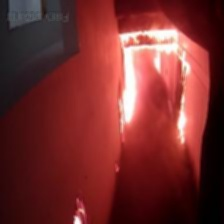fire: (115, 27, 187, 147)
